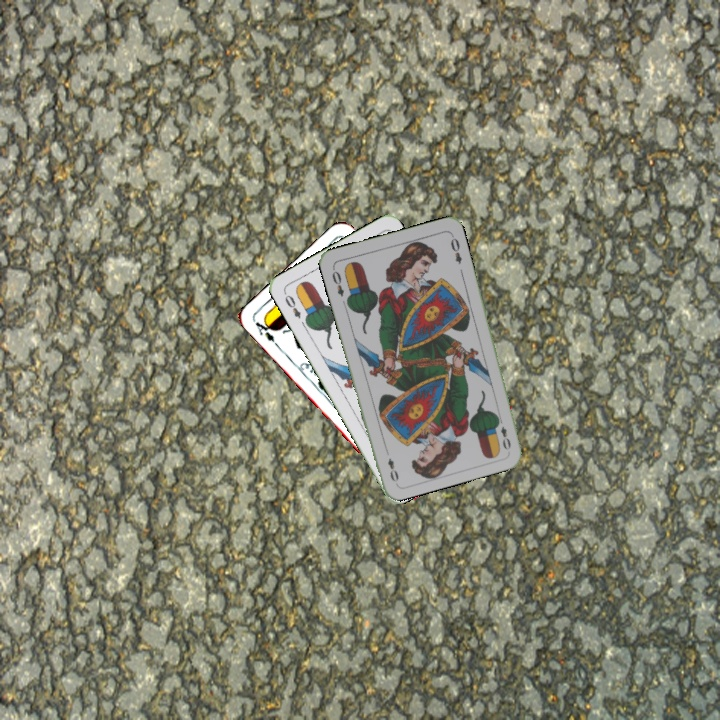EA: (250, 315, 278, 345)
EO: (493, 413, 513, 453), (281, 291, 304, 322), (328, 264, 347, 299)
